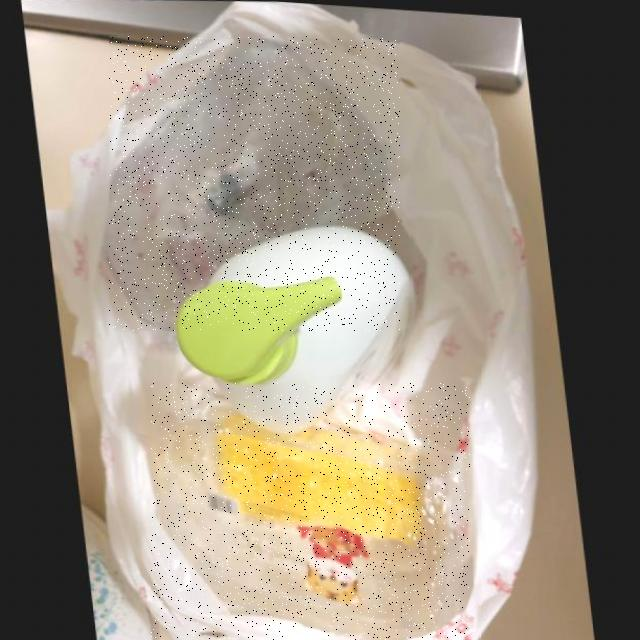plastic: (109, 36, 400, 331), (152, 383, 470, 640), (178, 223, 411, 432)
